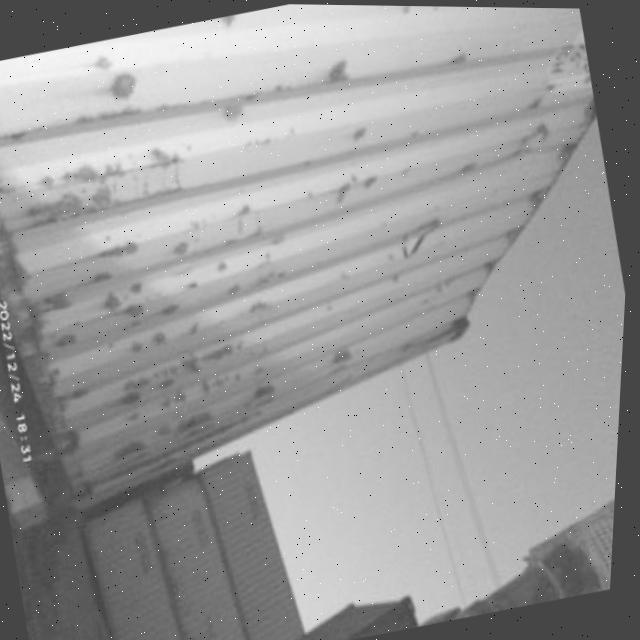rust: (1, 187, 110, 511), (131, 419, 221, 471), (39, 176, 108, 236), (104, 281, 141, 329), (324, 345, 356, 386), (116, 389, 156, 419), (246, 391, 282, 412)
